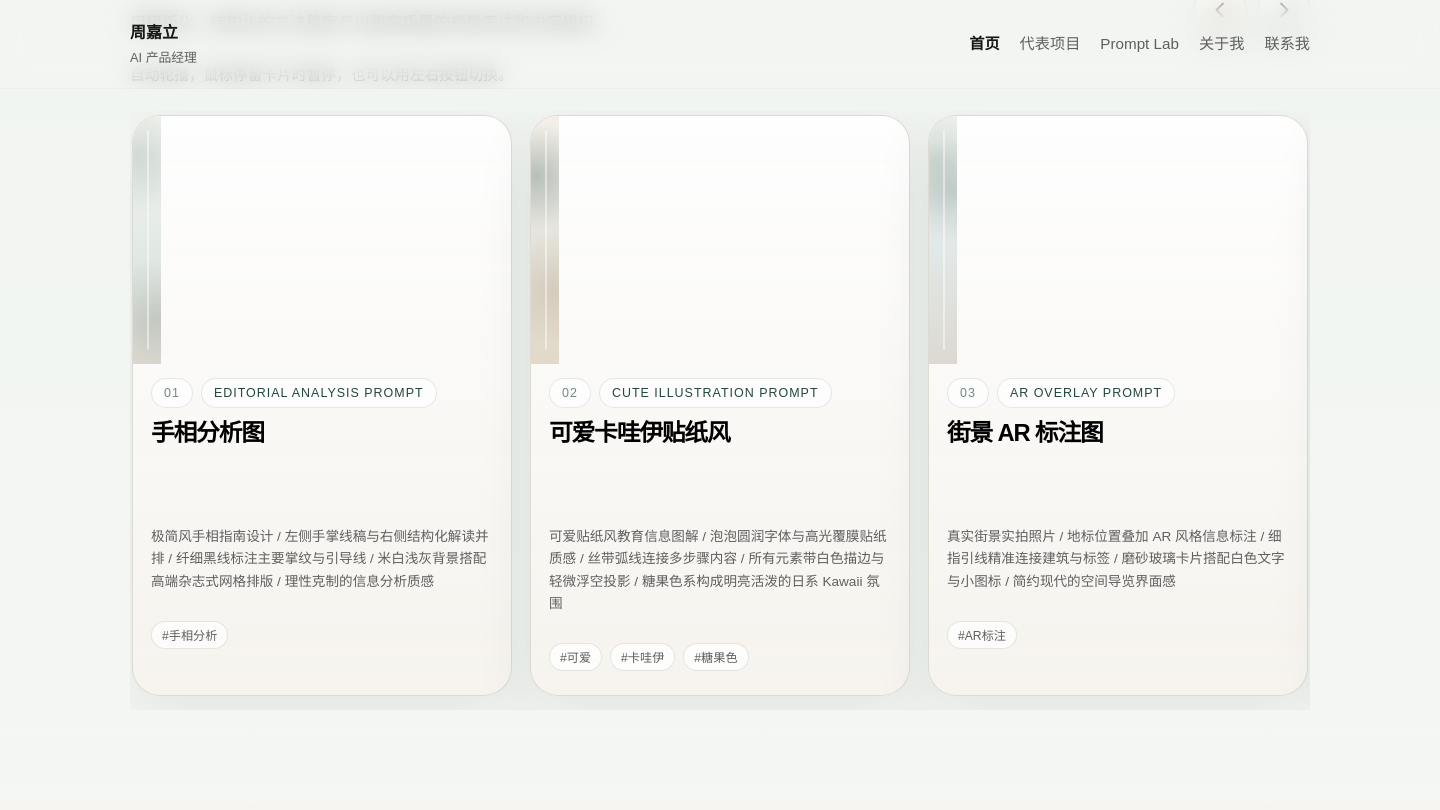
opens a prompt lab modal when a prompt lab card is clicked
(page scrolled)
Click the button with aria-label "Prompt Lab 卡片：" at x=322, y=406, box x1=132 y1=115 x2=512 y2=696
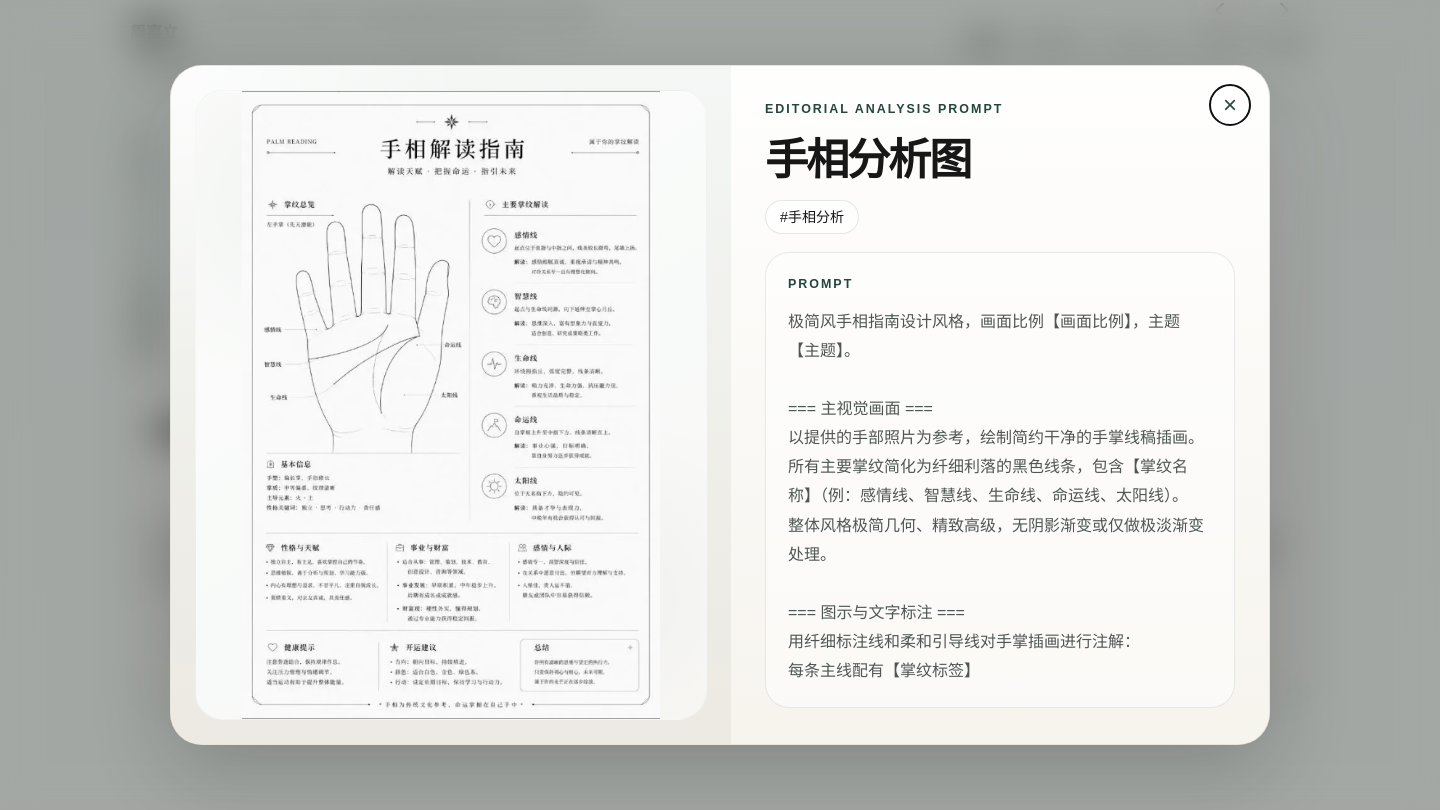
Now the dialog is shown
Now the dialog shows "Prompt", box x1=788 y1=277 x2=853 y2=291
